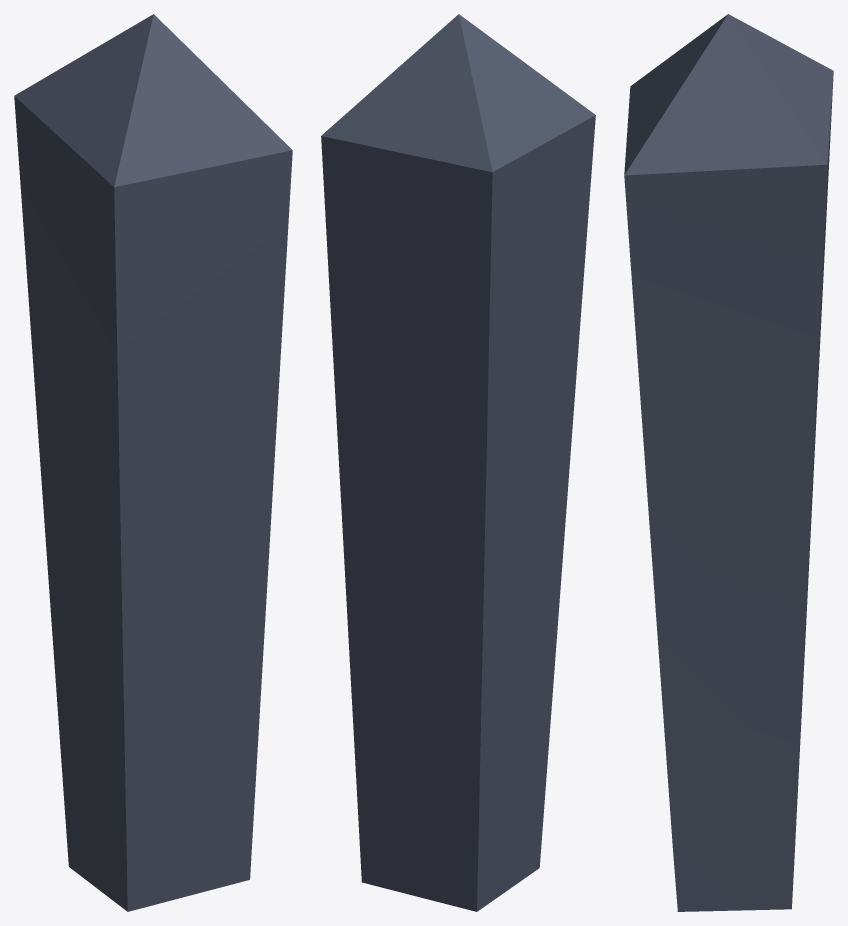
The model's file is FencePiece03.FBX.
3 renders of one model, left to right at view 1: azimuth 30°, elevation 25°; view 2: azimuth 150°, elevation 25°; view 3: azimuth 270°, elevation 25°, orthographic.
Visible parts, largest first — view 1: FencePiece03; view 2: FencePiece03; view 3: FencePiece03.
Boxes of the visible parts, x1=… form: FencePiece03: x1=14, y1=14, x2=292, y2=911; FencePiece03: x1=321, y1=14, x2=595, y2=911; FencePiece03: x1=624, y1=14, x2=833, y2=911.
Bounding box in the file's own units: 29.48 × 137 × 30.23.
